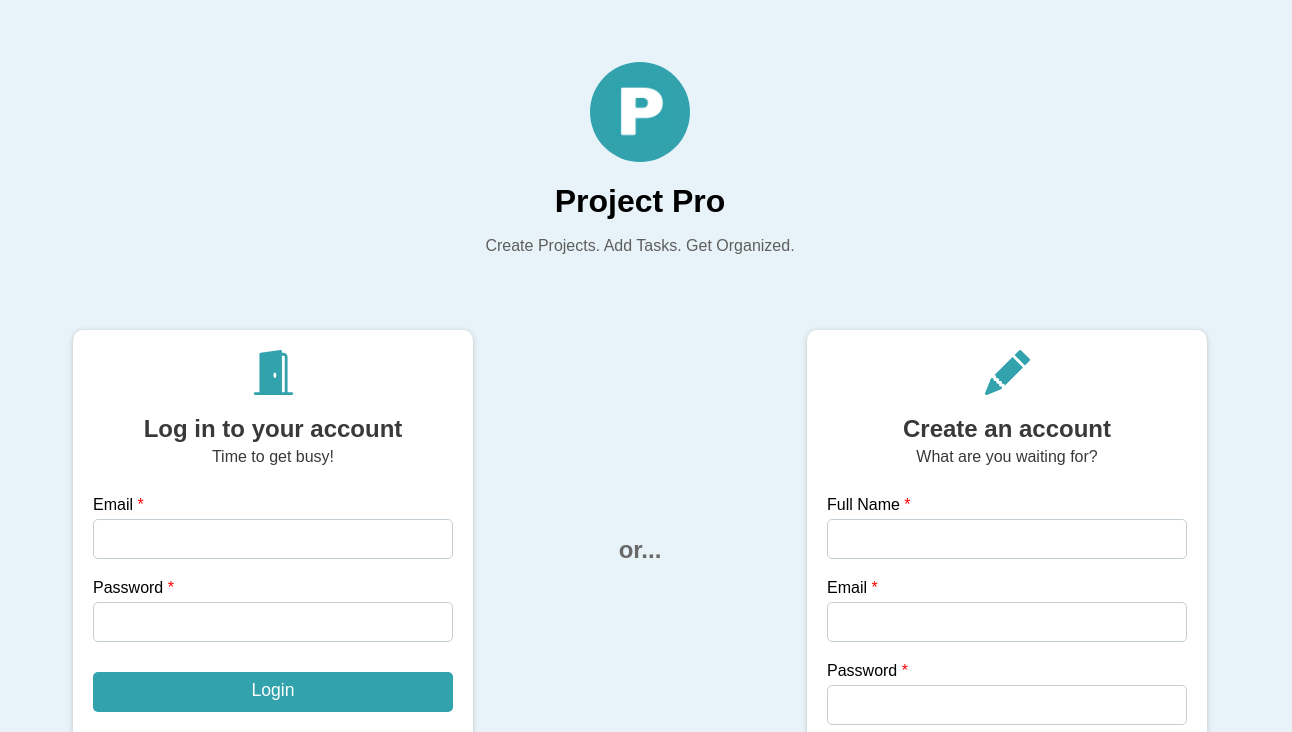
it: login <App /> › successfully log in with valid credentials
Type "email" into the field with placeholder "Email Address" below "Time to get busy!" at {"x": 273, "y": 539}, box [93, 519, 453, 559]
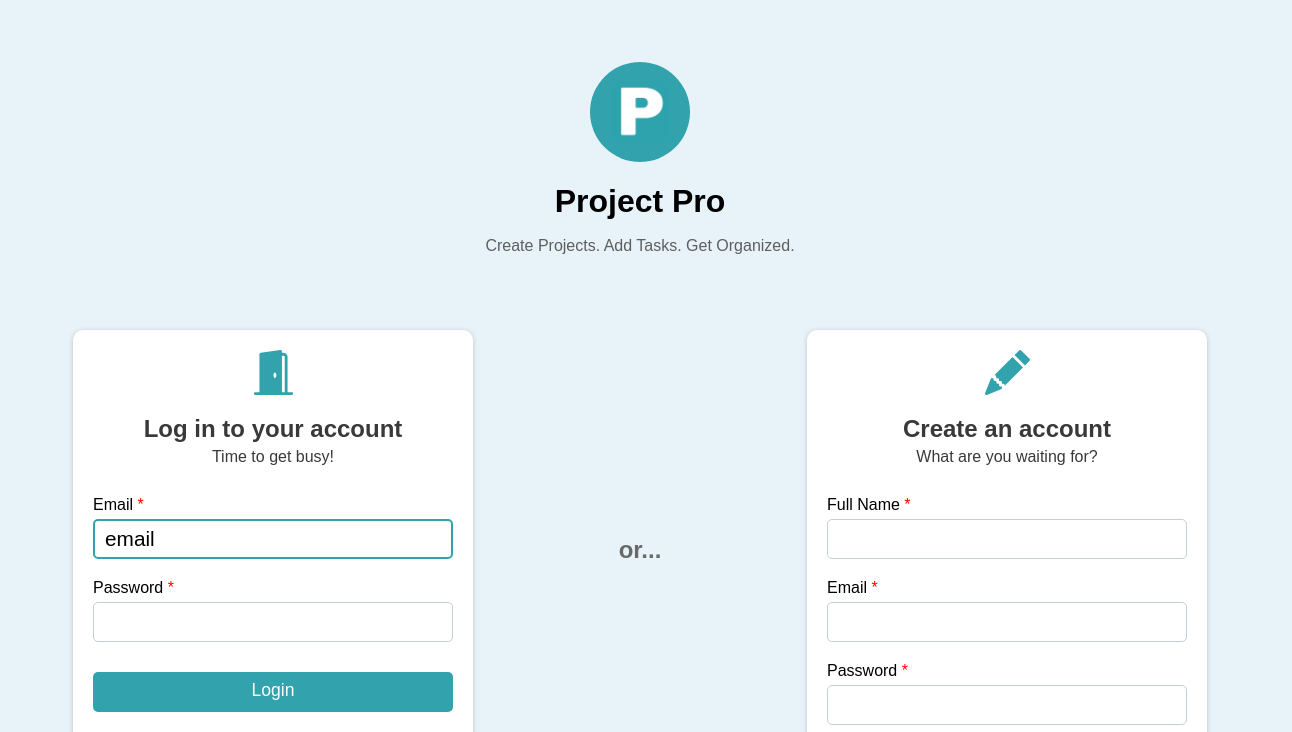
Type "password" into the password field with placeholder "Password" below "Time to get busy!" at {"x": 273, "y": 622}, box [93, 602, 453, 642]
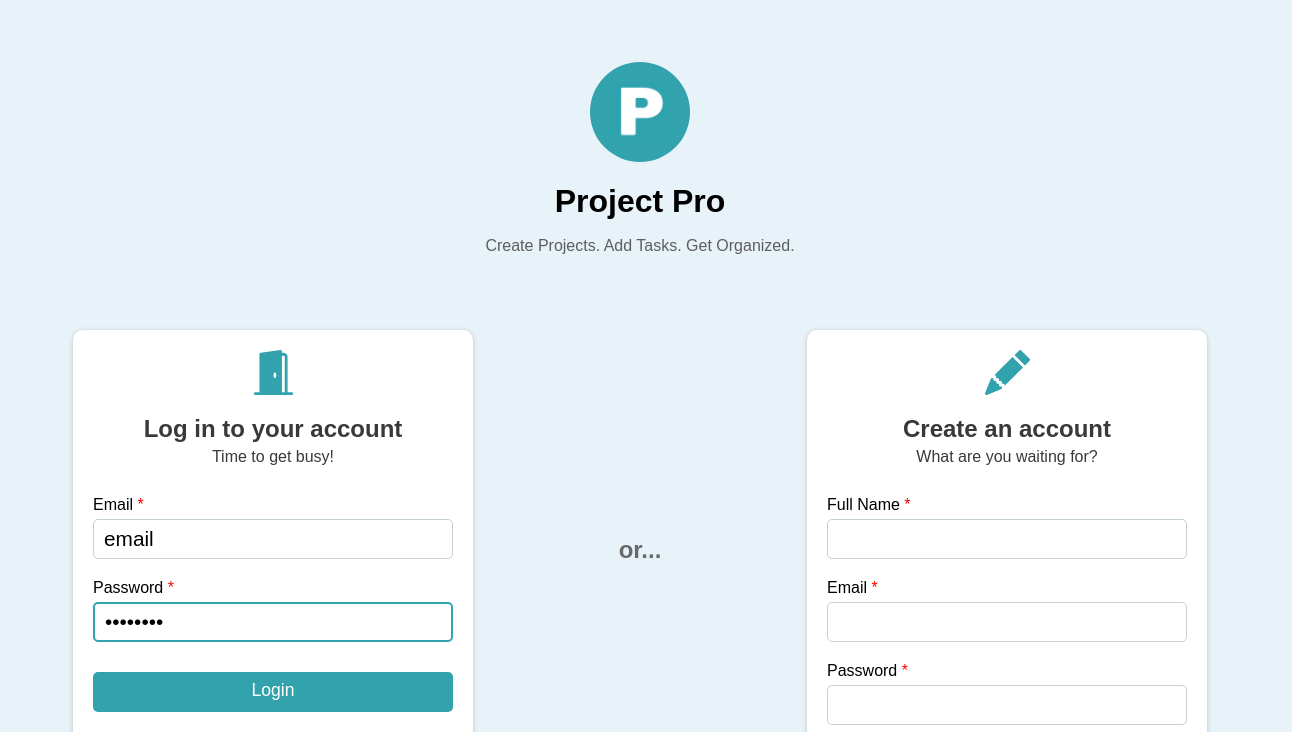
Click the button "Login" at {"x": 273, "y": 692}, box [93, 672, 453, 712]
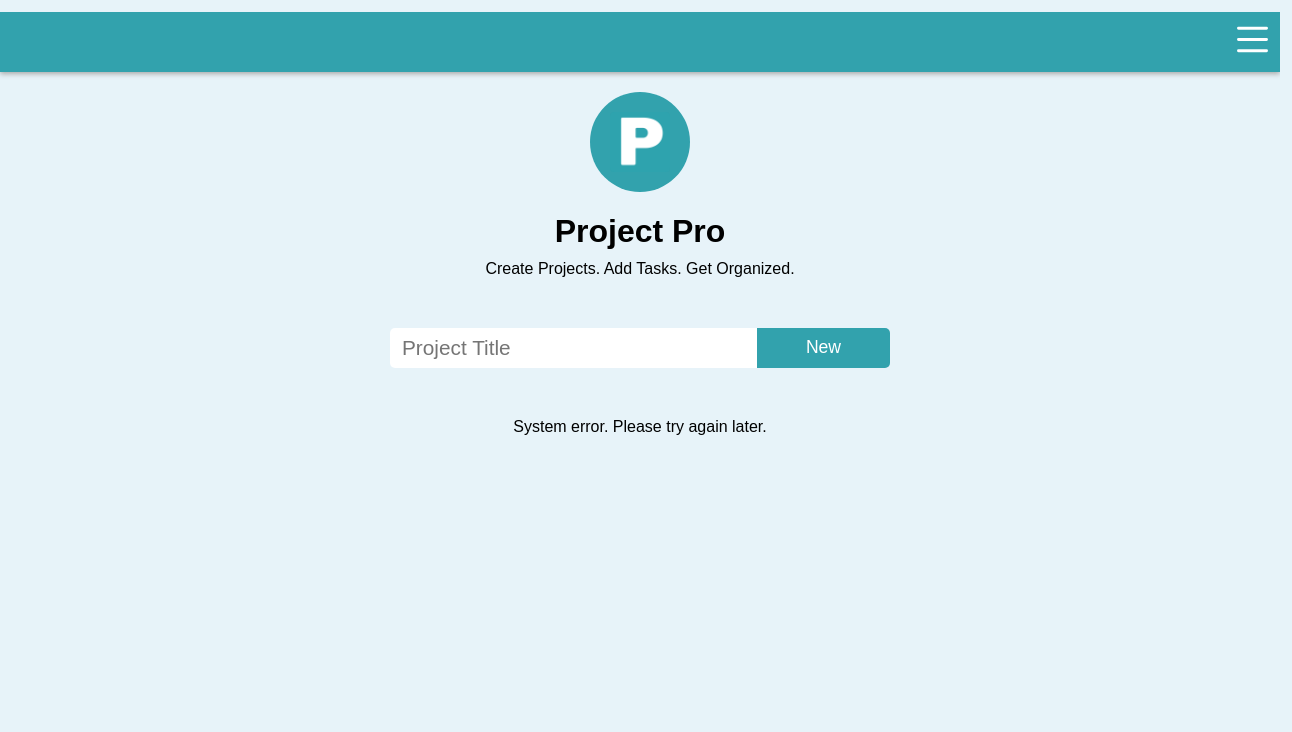
Now the text "System error. Please try again later." is shown, box [513, 418, 767, 435]
